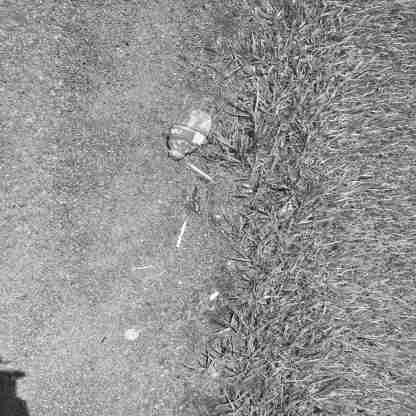plastic: (162, 109, 214, 159)
